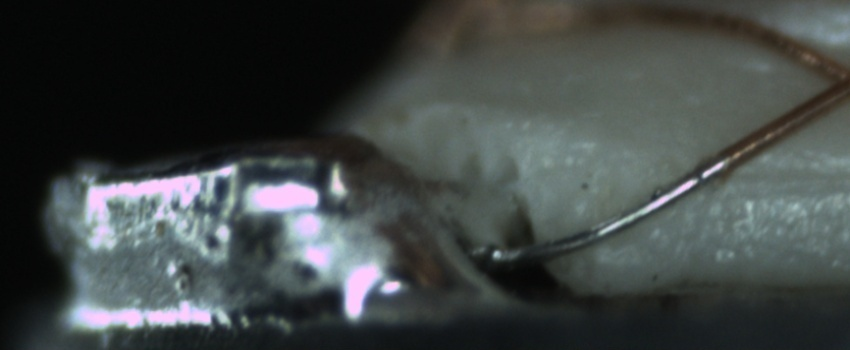CL: (803, 40, 850, 113)
DL: (704, 147, 849, 211)
TS: (488, 156, 728, 264)
